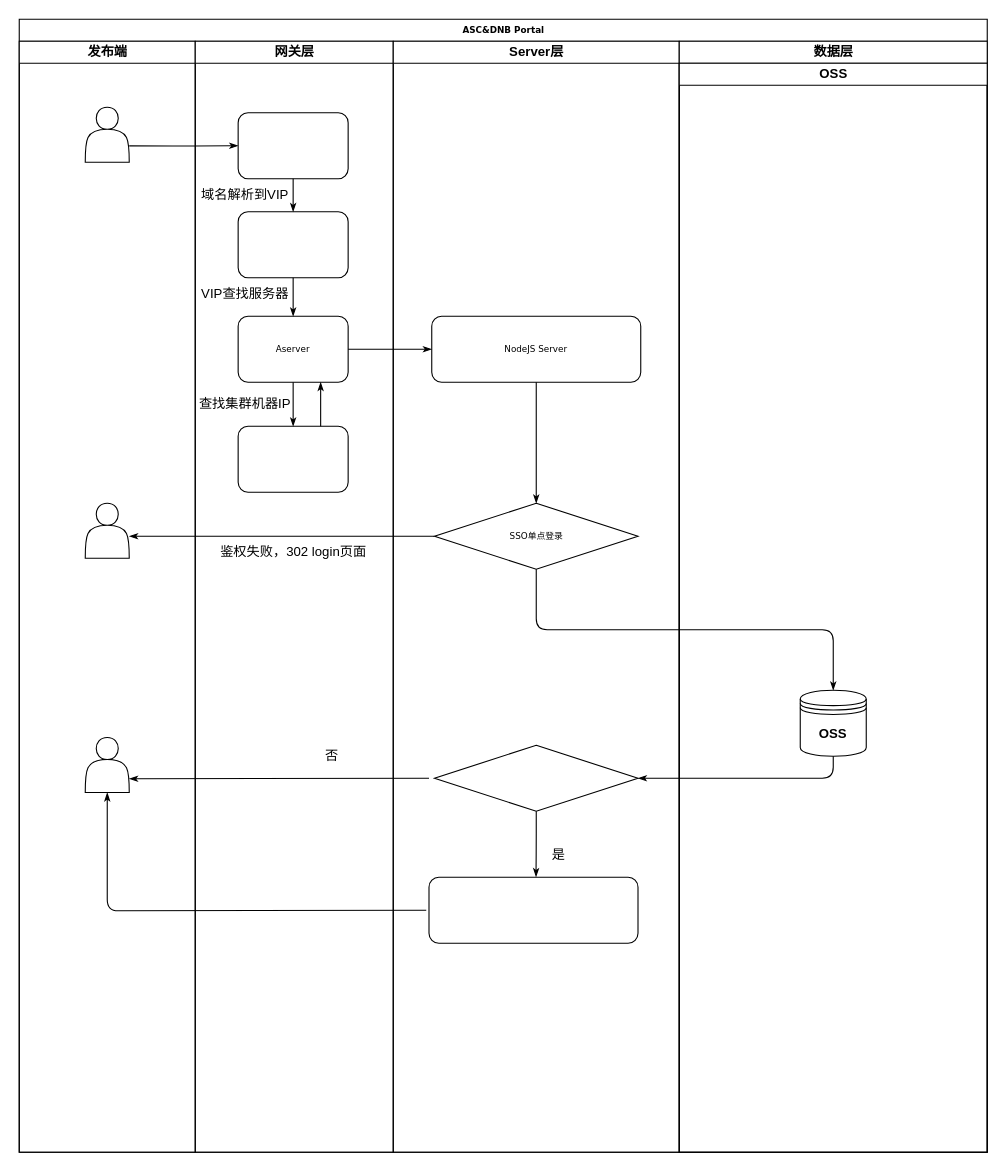
Image size: 1007x1172. Some labels were removed from this diagram. The shapes that lost their labels are listed below. From the top down, each one's centre as x and y in pixels, then its label:
point 292,145: ALiDNS
point 292,244: LSV DS
point 292,458: VIPServer
point 535,777: 是否异常
point 533,909: LAGO SDK
